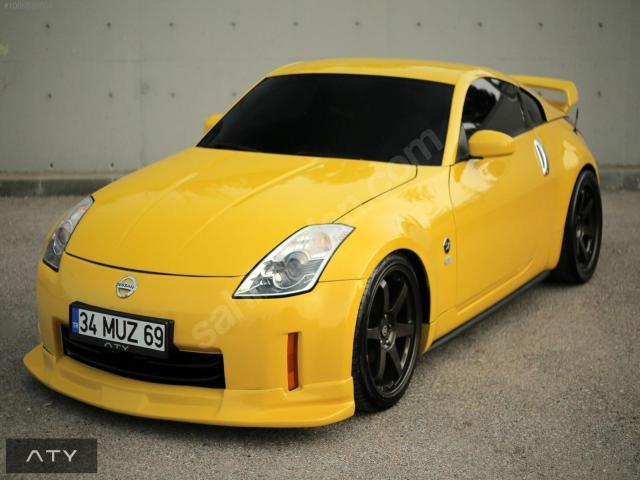plaka: (69, 304, 169, 358)
